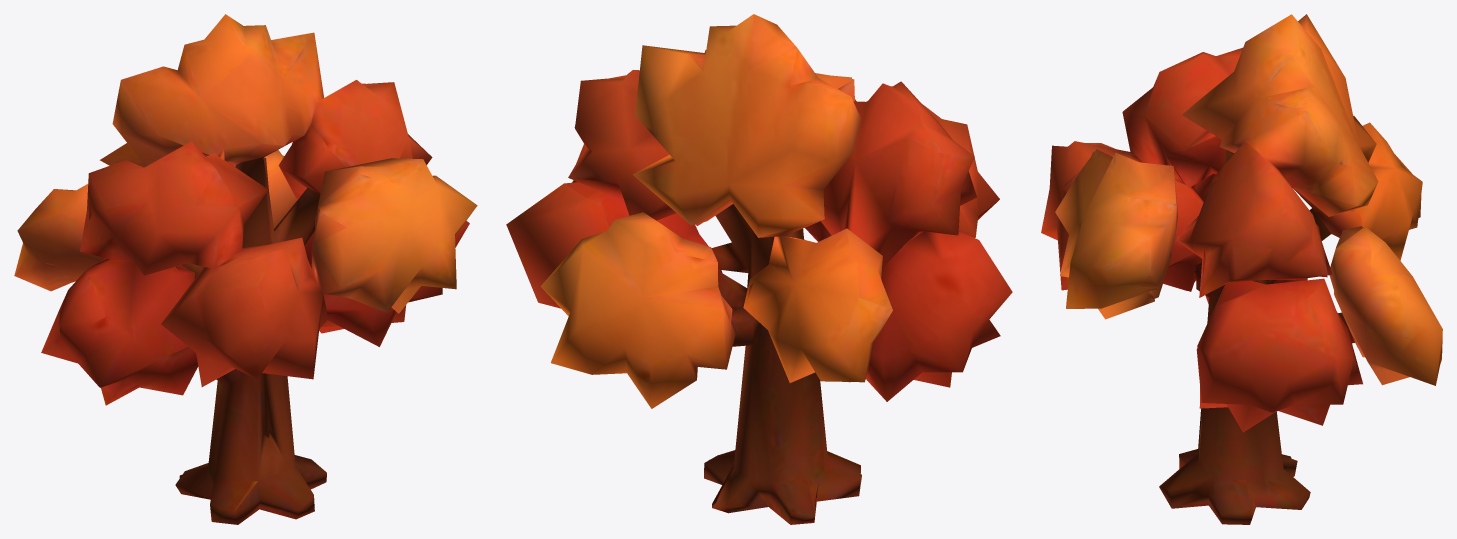
Rendered from x-tree-autumn.glb.
3 renders of one model, left to right at view 1: azimuth 30°, elevation 25°; view 2: azimuth 150°, elevation 25°; view 3: azimuth 270°, elevation 25°, orthographic. The views are drawn at different scales.
Parts seen in each view (by area): view 1: geometry_0; view 2: geometry_0; view 3: geometry_0.
Boxes of the visible parts, <box> form: geometry_0: <box>14,14,477,524</box>; geometry_0: <box>506,14,1012,524</box>; geometry_0: <box>1041,14,1442,524</box>.
Size of the model in its own units: 0.9278 by 1 by 0.7589.
1 material, 1 textured.
